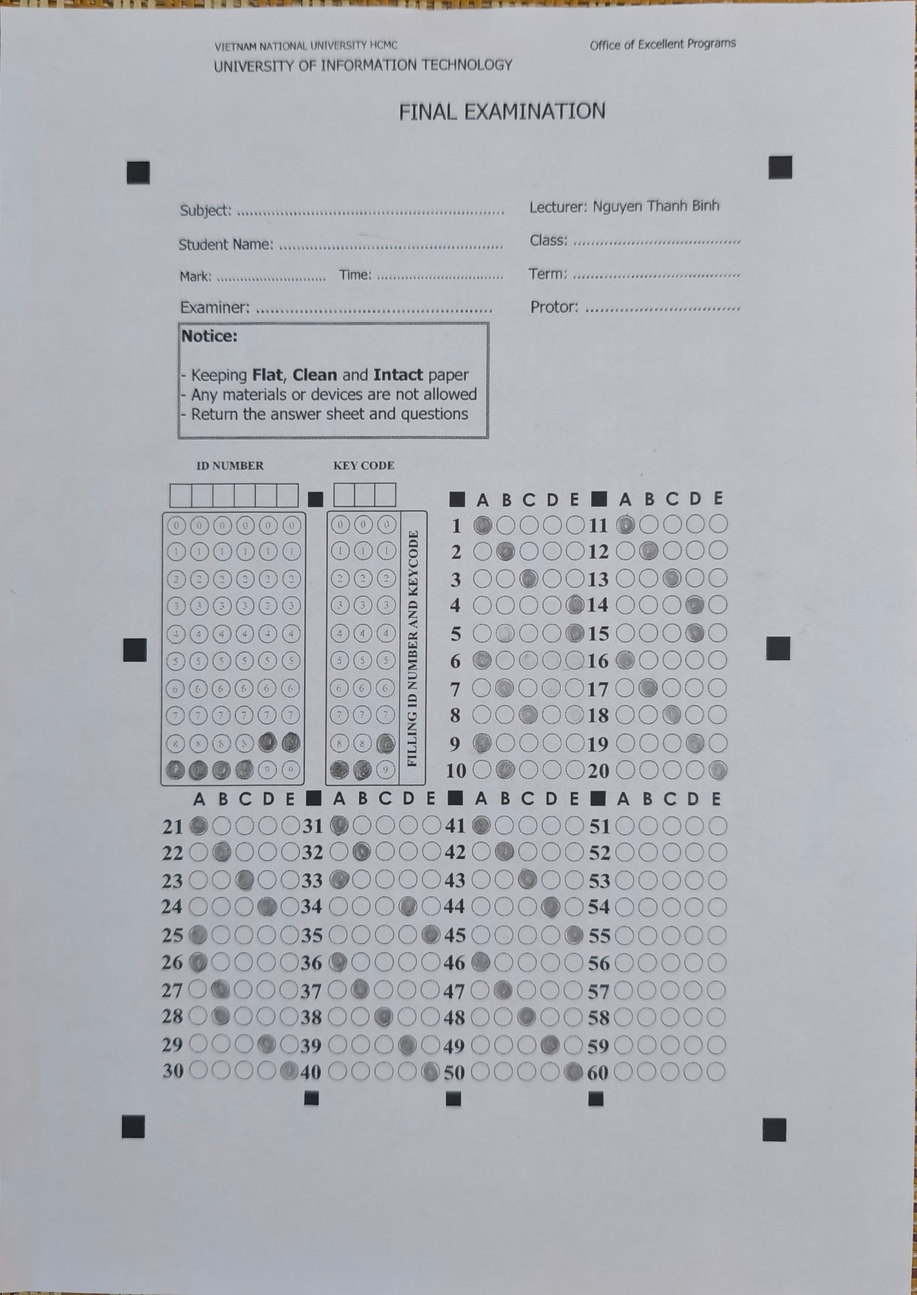info_region: (163, 513, 401, 786)
paper_region: (134, 168, 783, 1128)
q_1_20: (457, 498, 732, 798)
q_21_60: (163, 798, 732, 1097)
